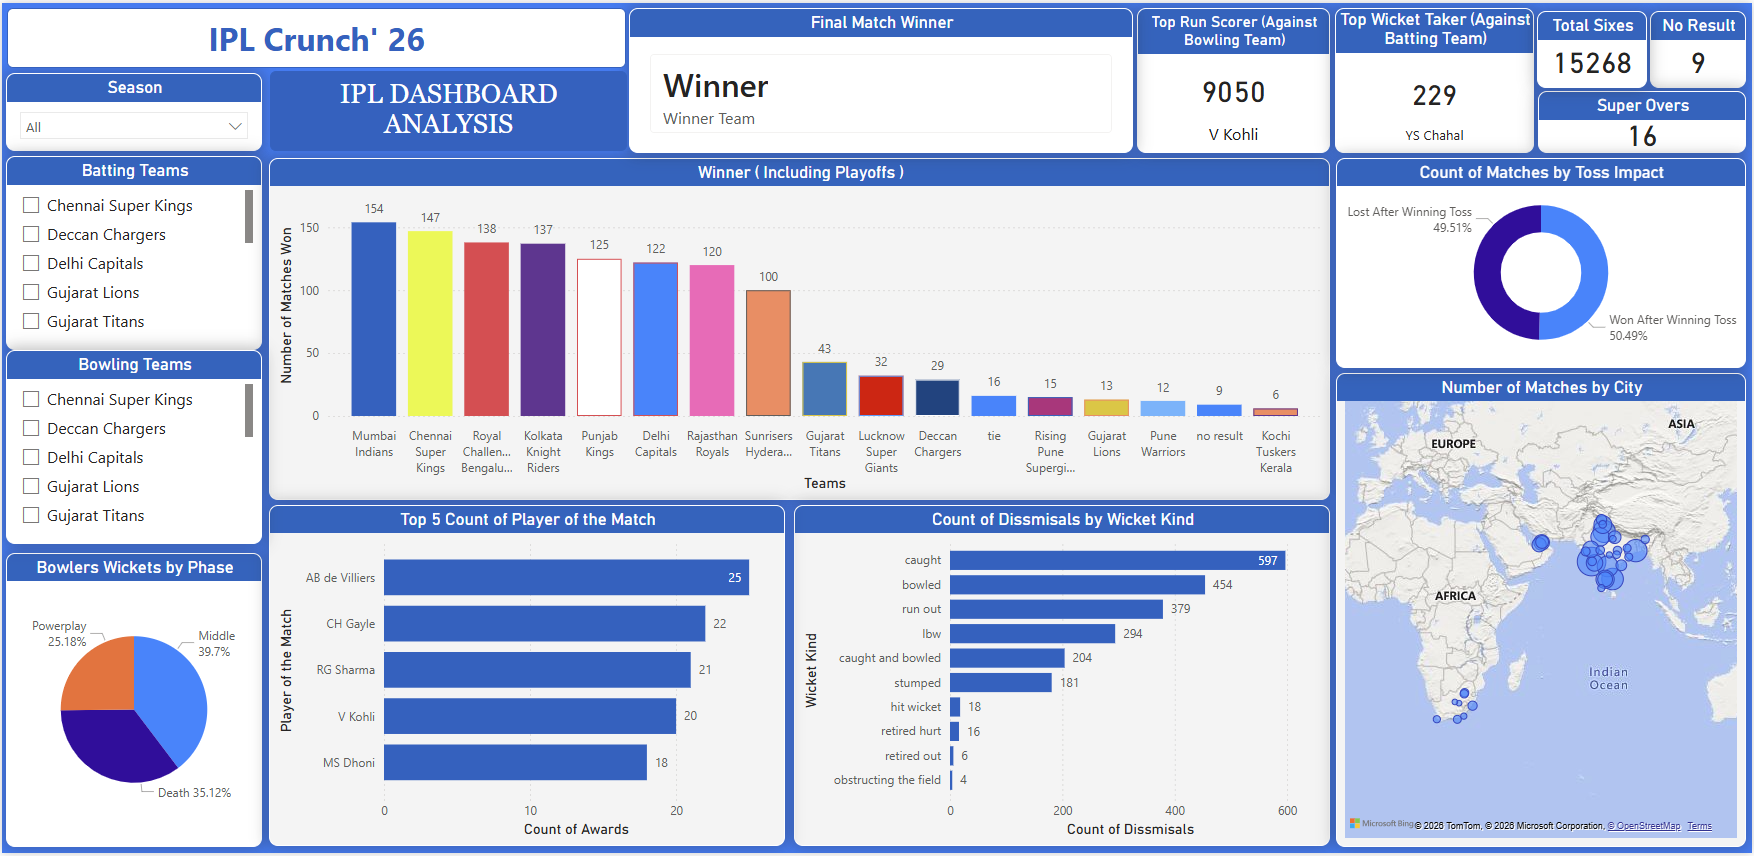

The page's visual inventory and layout, read from the dashboard file:
{"tool":"powerbi","page":{"name":"Page 1","canvas":[1750,850],"ordinal":0},"visuals":[{"type":"slicer","title":"Season","fields":{"Values":["Final Matches Dates.Seasons"]},"box":[4,70,256,78],"z":0},{"type":"slicer","title":"Teams","fields":{"Values":["Venue Data.Teams"]},"box":[4,154,256,394],"z":1000},{"type":"columnChart","title":"Winner ( Including Playoffs )","fields":{"Category":["ipl_cleaned.winner"],"Y":["Count(IPL Matches.match_id)"]},"box":[266.7,155,1061.7,342],"z":2000},{"type":"kpi","title":"No Result","fields":{"TrendLine":["ipl_cleaned.winner"],"Indicator":["Count(ipl_cleaned.date (bins))"]},"box":[1648,8,96,77],"z":3000},{"type":"kpi","title":"Top Run Scorer","fields":{"Indicator":["IPL Matches.Total Runs"],"TrendLine":["IPL Matches.batter"]},"box":[1135,5,193,145],"z":4000},{"type":"kpi","title":"Top Wicket Taker","fields":{"TrendLine":["IPL Matches.bowler"]},"box":[1333,5,199,145],"z":5000},{"type":"pieChart","fields":{"Category":["ipl_cleaned.phase"],"Y":["Sum(IPL Matches.is_bowler_wicket)"]},"box":[4,556,256,288],"z":6000},{"type":"barChart","fields":{"Category":["ipl_cleaned.wicket_kind"],"Y":["Count(ipl_cleaned.wicket_player_out)"]},"box":[791.7,501.7,536.7,341.7],"z":7000},{"type":"kpi","title":"Super Overs","fields":{"Indicator":["IPL Matches.Total Super Overs"],"TrendLine":["IPL Matches.is_super_over"]},"box":[1536,88,208,62],"z":8000},{"type":"barChart","title":"Top 5 Count of Player of the Match","fields":{"Y":["Count(ipl_cleaned.date (bins))"],"Category":["ipl_cleaned.player_of_match"]},"box":[266.7,501.7,516.7,341.7],"z":9000},{"type":"map","title":"Number of Matches by City","fields":{"Category":["ipl_cleaned.city"],"Size":["Count(ipl_cleaned.date (bins))"]},"box":[1334,370,410,474],"z":10000},{"type":"cardVisual","title":"Final Match Winner","fields":{"Data":["IPL Matches.Winner_Team"]},"box":[627,5,504,145],"z":11000},{"type":"donutChart","fields":{"Category":["IPL Matches.Toss_Impact"],"Y":["Count(IPL Matches.match_id)"]},"box":[1334,155,410,210],"z":12000},{"type":"textbox","box":[5,5,619,60],"z":13000},{"type":"textbox","box":[267.5,67.5,357.5,80],"z":14000},{"type":"kpi","title":"Total Sixes","fields":{"Indicator":["IPL Matches.Total Sixes"],"TrendLine":["IPL Matches.runs_batter"]},"box":[1535,8,110,77],"z":15000}]}

Visuals, with their boxes in screenshot pixels (x1, y1, x2, y2), scaled from the page's 1750x850 canvas onto the 1754x856 screenshot:
"Season" slicer: {"left": 4, "top": 70, "right": 261, "bottom": 149}
"Teams" slicer: {"left": 4, "top": 155, "right": 261, "bottom": 552}
"Winner ( Including Playoffs )" columnChart: {"left": 267, "top": 156, "right": 1331, "bottom": 501}
"No Result" kpi: {"left": 1652, "top": 8, "right": 1748, "bottom": 86}
"Top Run Scorer" kpi: {"left": 1138, "top": 5, "right": 1331, "bottom": 151}
"Top Wicket Taker" kpi: {"left": 1336, "top": 5, "right": 1536, "bottom": 151}
pieChart - ipl_cleaned.phase x Sum(IPL Matches.is_bowler_wicket): {"left": 4, "top": 560, "right": 261, "bottom": 850}
barChart - ipl_cleaned.wicket_kind x Count(ipl_cleaned.wicket_player_out): {"left": 794, "top": 505, "right": 1331, "bottom": 849}
"Super Overs" kpi: {"left": 1540, "top": 89, "right": 1748, "bottom": 151}
"Top 5 Count of Player of the Match" barChart: {"left": 267, "top": 505, "right": 785, "bottom": 849}
"Number of Matches by City" map: {"left": 1337, "top": 373, "right": 1748, "bottom": 850}
"Final Match Winner" cardVisual: {"left": 628, "top": 5, "right": 1134, "bottom": 151}
donutChart - IPL Matches.Toss_Impact x Count(IPL Matches.match_id): {"left": 1337, "top": 156, "right": 1748, "bottom": 368}
textbox: {"left": 5, "top": 5, "right": 625, "bottom": 65}
textbox: {"left": 268, "top": 68, "right": 626, "bottom": 149}
"Total Sixes" kpi: {"left": 1539, "top": 8, "right": 1649, "bottom": 86}
